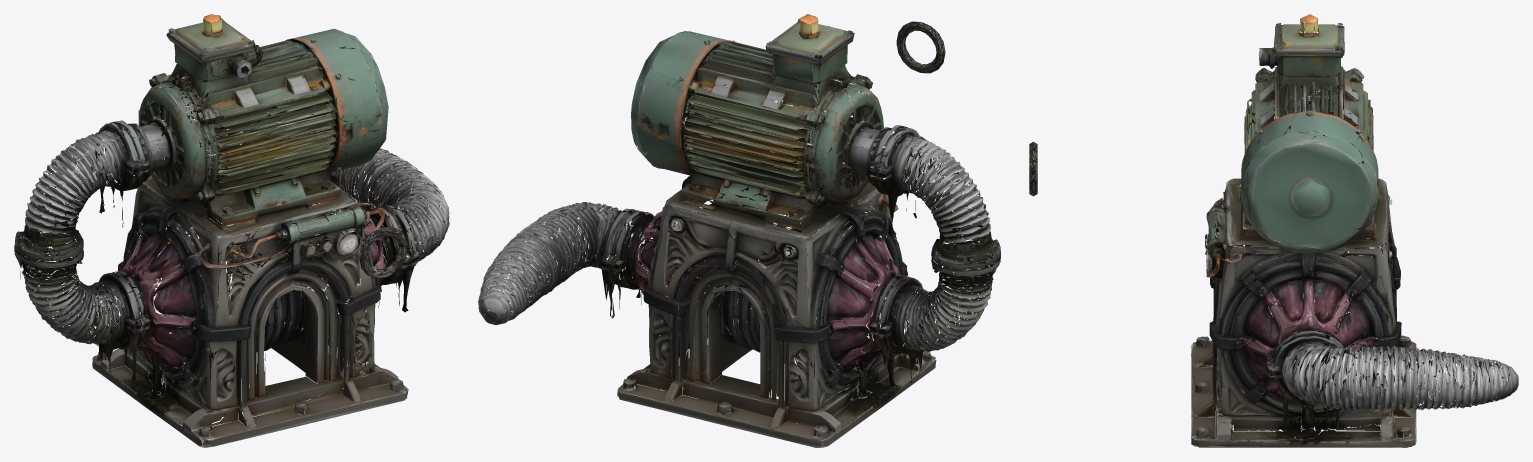
File: sump_sewage_macerator_pump.glb
3 renders of one model, left to right at view 1: azimuth 30°, elevation 25°; view 2: azimuth 150°, elevation 25°; view 3: azimuth 270°, elevation 25°, orthographic. The views are drawn at different scales.
Parts seen in each view (by area): view 1: node_0, HB_ROTOR_00; view 2: node_0, HB_ROTOR_00; view 3: node_0.
Boxes of the visible parts, x1,y1,x2,y2 form: node_0: [14, 14, 449, 447]; HB_ROTOR_00: [359, 226, 407, 277]; node_0: [478, 14, 1000, 447]; HB_ROTOR_00: [896, 21, 945, 73]; node_0: [1191, 14, 1518, 447].
Bounding box in the file's own units: 1.04 × 0.8498 × 1.03.
Materials: 1 (1 with a texture image).
